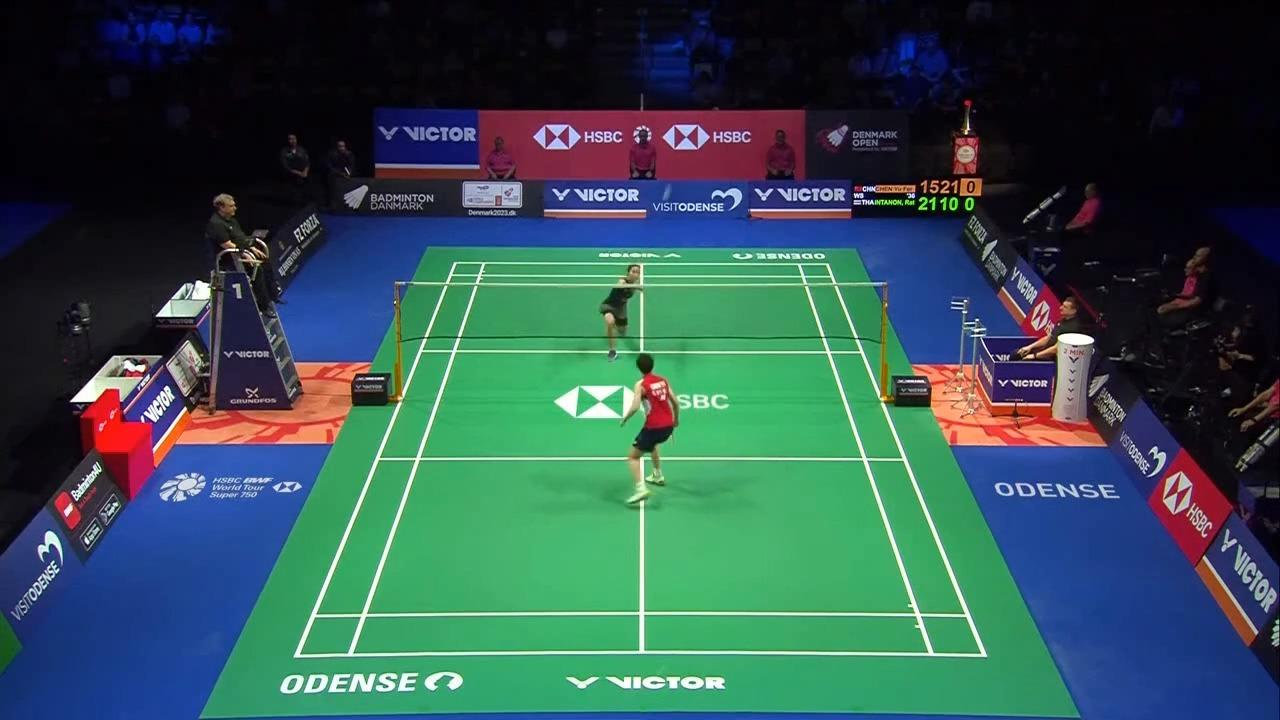shuttle: (660, 185, 672, 202)
